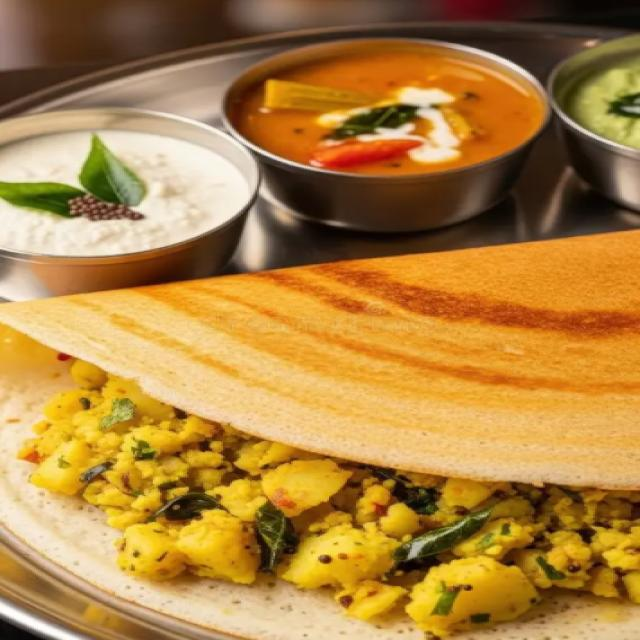dosa: (0, 228, 638, 622)
